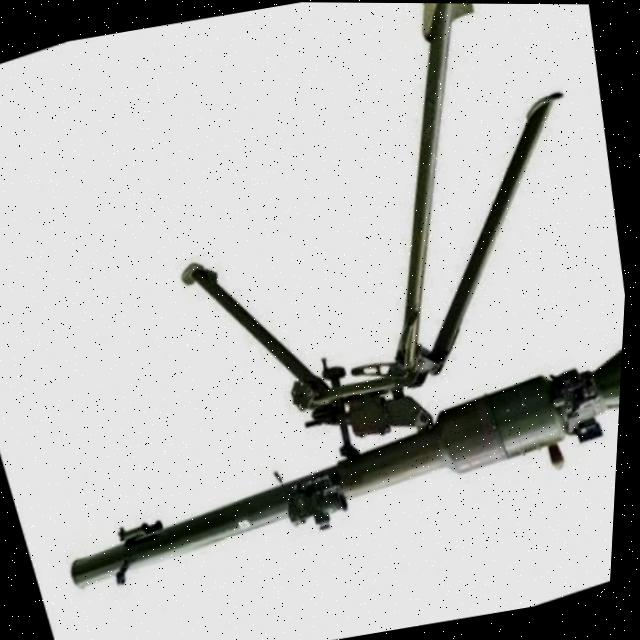rocket: (27, 307, 627, 639)
